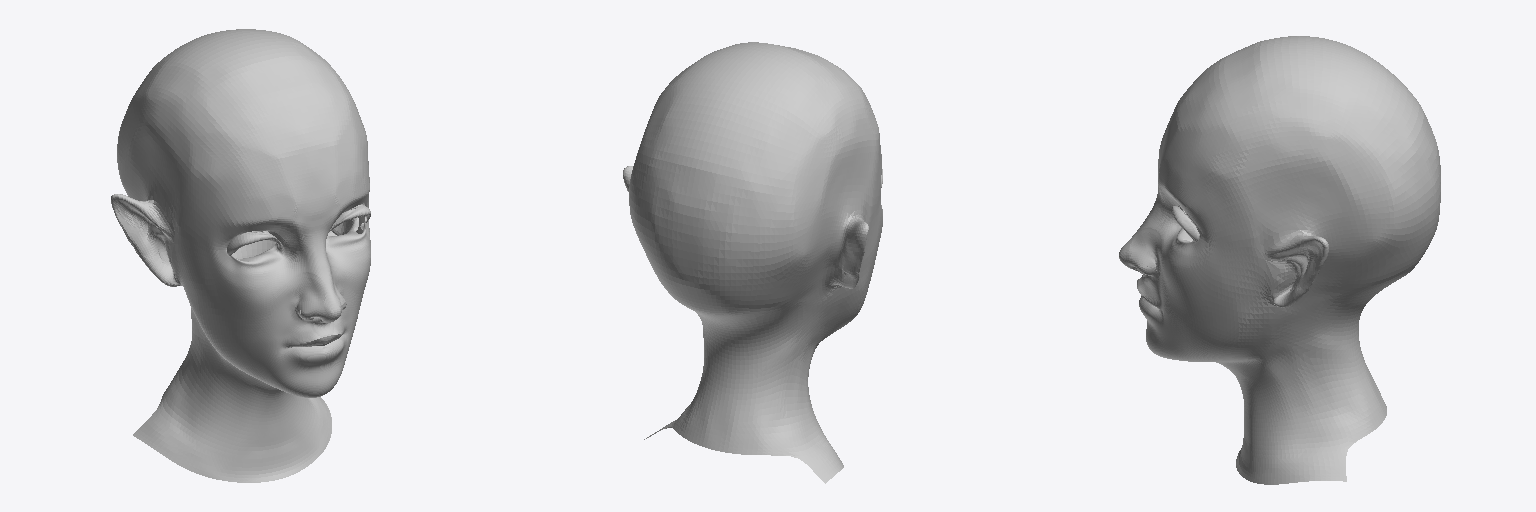
File: Head Base.OBJ
3 renders of one model, left to right at view 1: azimuth 30°, elevation 25°; view 2: azimuth 150°, elevation 25°; view 3: azimuth 270°, elevation 25°, orthographic.
Visible parts, largest first — view 1: Body_Base1; view 2: Body_Base1; view 3: Body_Base1.
Boxes of the visible parts, x1,y1,x2,y2 form: Body_Base1: [111, 29, 370, 482]; Body_Base1: [623, 42, 882, 483]; Body_Base1: [1119, 36, 1440, 484].
Bounding box in the file's own units: 1.96 × 3.17 × 2.24.